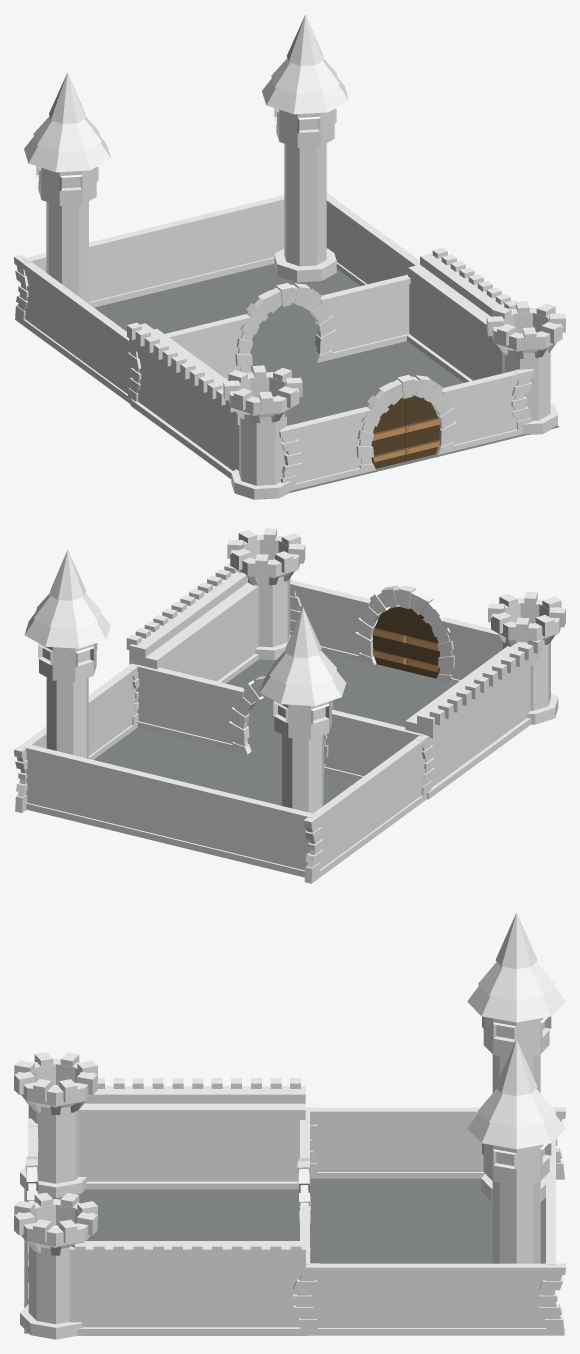
File: castle.fbx
The picture shows the model from 3 angles, top to bottom: view 1: azimuth 30°, elevation 25°; view 2: azimuth 150°, elevation 25°; view 3: azimuth 270°, elevation 25°; orthographic projection. The views are drawn at different scales.
Visible parts, largest first — view 1: Plane.002, Cube.007, Circle.003, Circle.002, Cube.009, Circle.001, Circle, Cube.005, Cube.001, Cube, Cube.008, Cube.011 (+9 smaller); view 2: Cube.007, Plane.002, Circle.003, Circle.002, Cube.009, Cube.005, Circle, Circle.001, Cube.008, Cube.004, Cube, Cube.010 (+10 smaller); view 3: Plane.002, Cube.008, Cube.009, Circle.003, Circle.002, Cube.013, Cube.014, Circle, Circle.001, Cube.010, Cube.006, Cube.012 (+5 smaller).
Part boxes in pixels (x1=…): Plane.002: x1=94, y1=264, x2=559, y2=498; Cube.007: x1=23, y1=195, x2=284, y2=307; Circle.003: x1=262, y1=14, x2=348, y2=282; Circle.002: x1=24, y1=72, x2=111, y2=303; Cube.009: x1=14, y1=255, x2=133, y2=401; Circle.001: x1=223, y1=365, x2=302, y2=499; Circle: x1=486, y1=301, x2=565, y2=434; Cube.005: x1=320, y1=274, x2=410, y2=358; Cube.001: x1=279, y1=406, x2=370, y2=490; Cube: x1=442, y1=369, x2=534, y2=450; Cube.008: x1=326, y1=193, x2=419, y2=285; Cube.011: x1=407, y1=247, x2=474, y2=364; Cube.007: x1=24, y1=744, x2=316, y2=877; Plane.002: x1=94, y1=653, x2=454, y2=805; Circle.003: x1=24, y1=550, x2=110, y2=758; Circle.002: x1=260, y1=607, x2=346, y2=813; Cube.009: x1=303, y1=736, x2=429, y2=883; Cube.005: x1=136, y1=664, x2=244, y2=750; Circle: x1=227, y1=528, x2=305, y2=660; Circle.001: x1=488, y1=591, x2=565, y2=724; Cube.008: x1=14, y1=667, x2=137, y2=812; Cube.004: x1=324, y1=709, x2=423, y2=780; Cube: x1=290, y1=579, x2=370, y2=661; Cube.010: x1=162, y1=589, x2=233, y2=683; Plane.002: x1=24, y1=1178, x2=545, y2=1333; Cube.008: x1=304, y1=1263, x2=565, y2=1335; Cube.009: x1=310, y1=1107, x2=565, y2=1179; Circle.003: x1=467, y1=1039, x2=565, y2=1263; Circle.002: x1=467, y1=913, x2=565, y2=1201; Cube.013: x1=145, y1=1078, x2=230, y2=1189; Cube.014: x1=223, y1=1078, x2=305, y2=1189; Circle: x1=14, y1=1192, x2=97, y2=1339; Circle.001: x1=14, y1=1052, x2=97, y2=1197; Cube.010: x1=145, y1=1241, x2=228, y2=1335; Cube.006: x1=69, y1=1241, x2=150, y2=1335; Cube.012: x1=75, y1=1078, x2=151, y2=1189.
Bounding box in the file's own units: 1215 × 904 × 1608.
